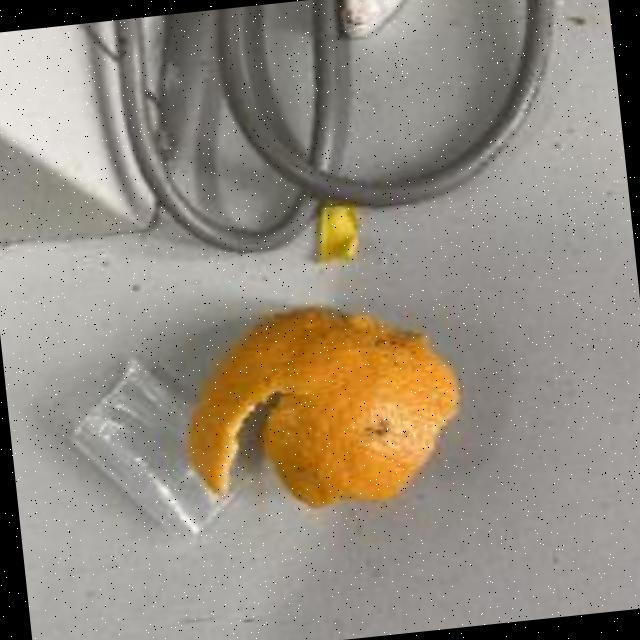orange-peel: (172, 286, 473, 522)
